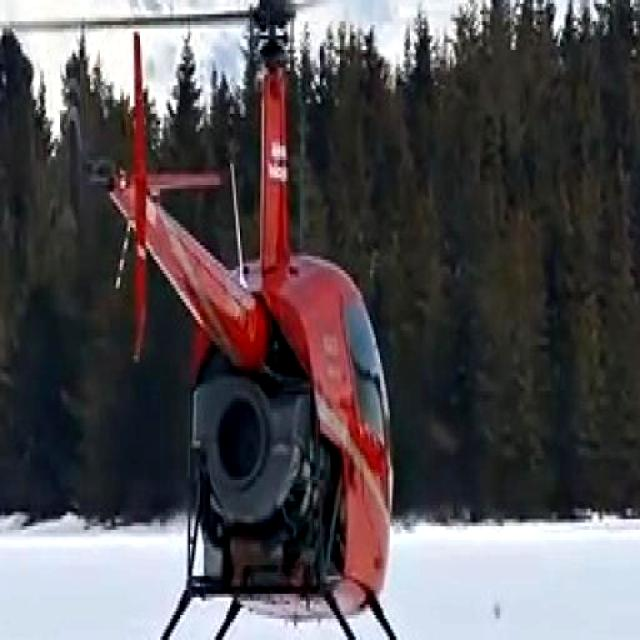drone: (0, 0, 494, 640)
